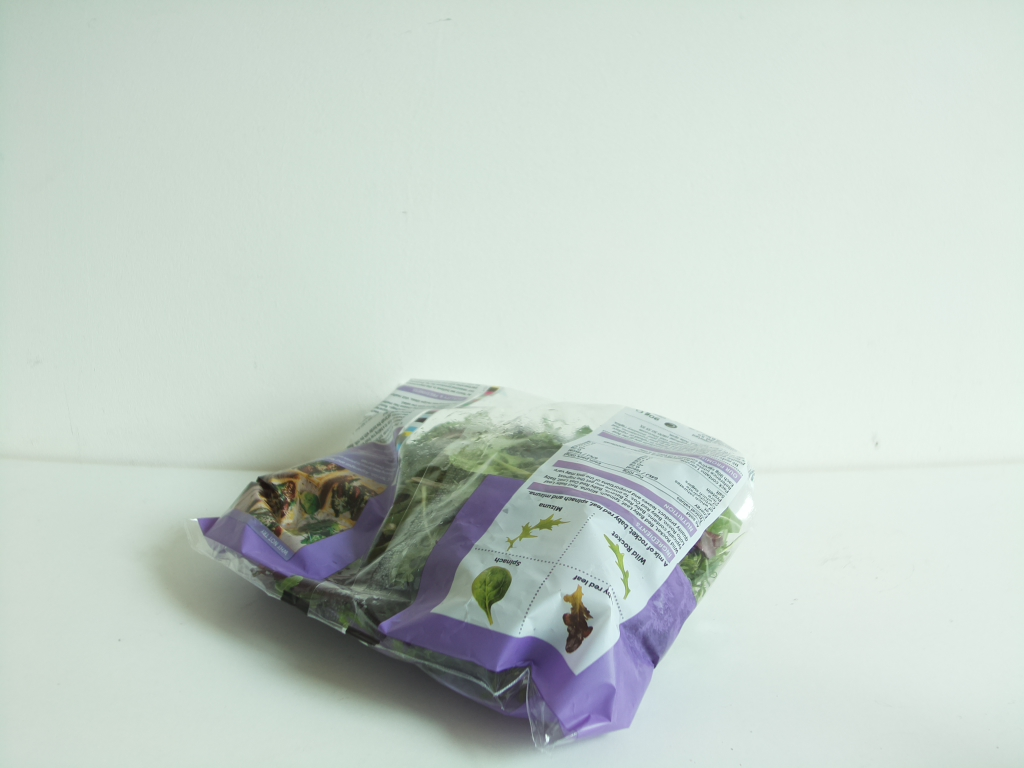salad: (196, 377, 759, 749)
